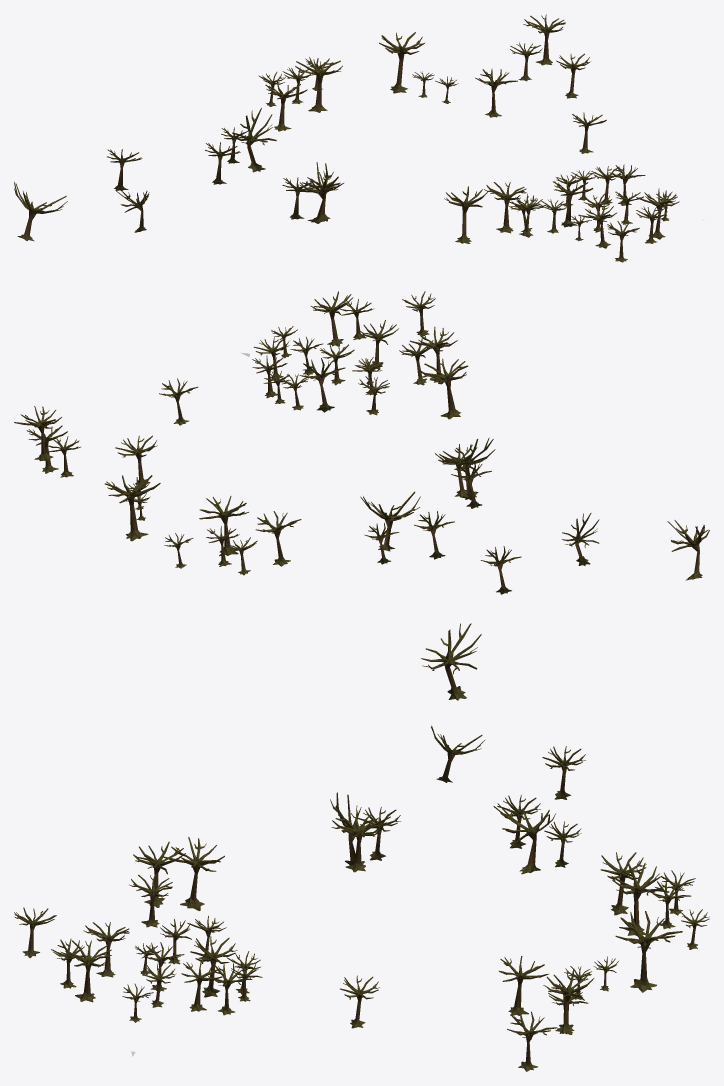
The model's file is Tree_Block_5.FBX.
3 renders of one model, top to bottom at view 1: azimuth 30°, elevation 25°; view 2: azimuth 150°, elevation 25°; view 3: azimuth 270°, elevation 25°, orthographic. The views are drawn at different scales.
Parts seen in each view (by area): view 1: Tree:Tree089; view 2: Tree:Tree089; view 3: Tree:Tree089.
Part boxes in pixels (box(x1,y1,x2,y2)): Tree:Tree089: box(14, 14, 702, 262); Tree:Tree089: box(14, 291, 709, 594); Tree:Tree089: box(14, 623, 709, 1071).
Size of the model in its own units: 306 by 37.61 by 245.
